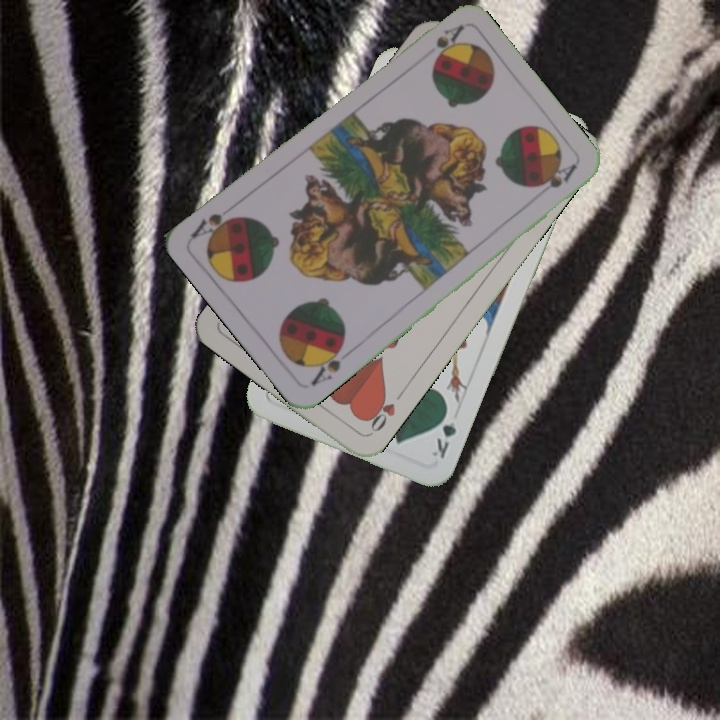GK: (427, 404, 459, 462)
HO: (361, 386, 407, 435)
SA: (307, 339, 354, 388), (432, 21, 466, 58)
